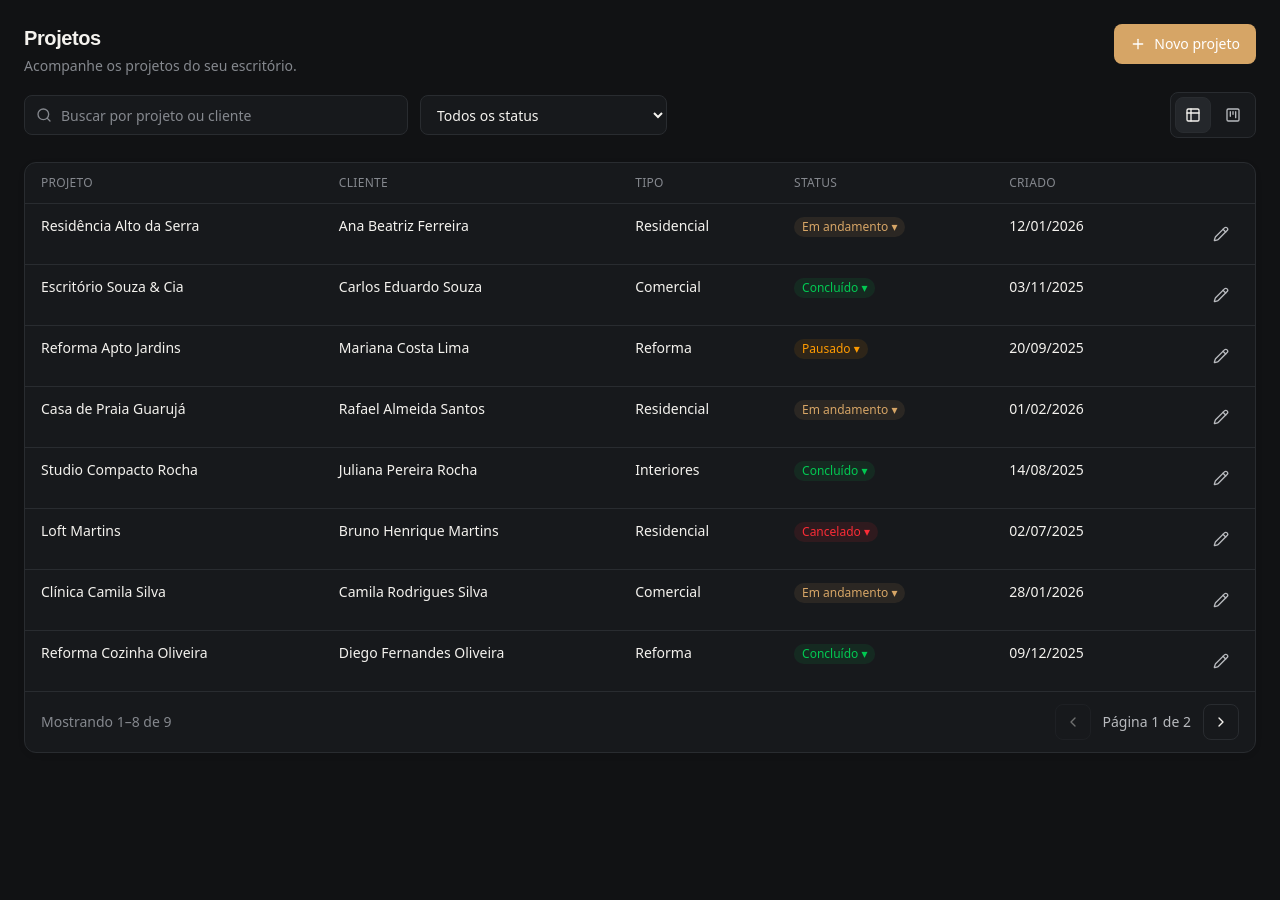
ProjectsPage › filters rows by status
Expected: the link "Residência Alto da Serra" is shown, [41,216,200,235]
Select "Concluído" in the dropdown named "Status" at (544, 115), box [420,95,667,135]
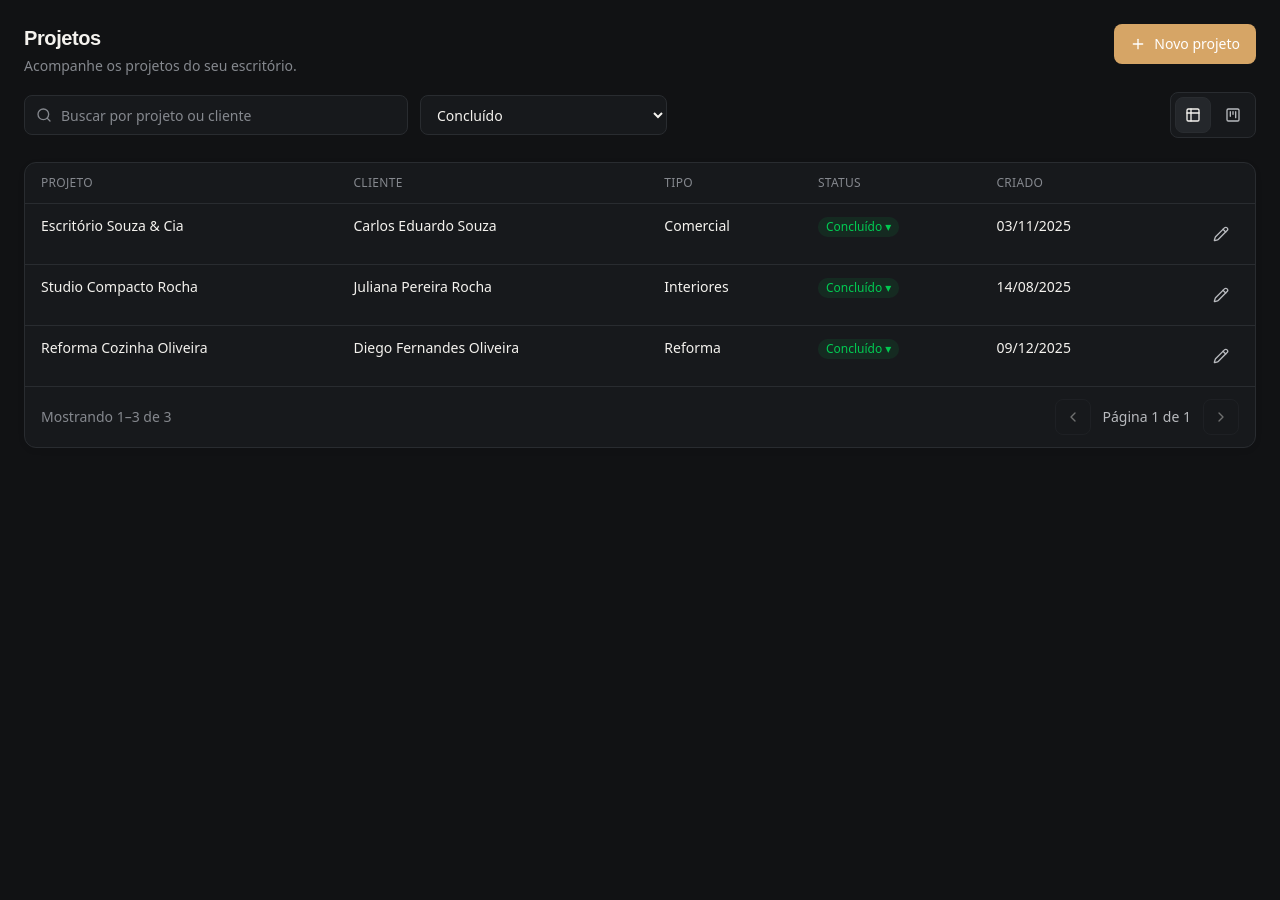
Expected: the link "Escritório Souza & Cia" is shown, [41,216,184,235]
Expected: the link "Residência Alto da Serra" is gone
